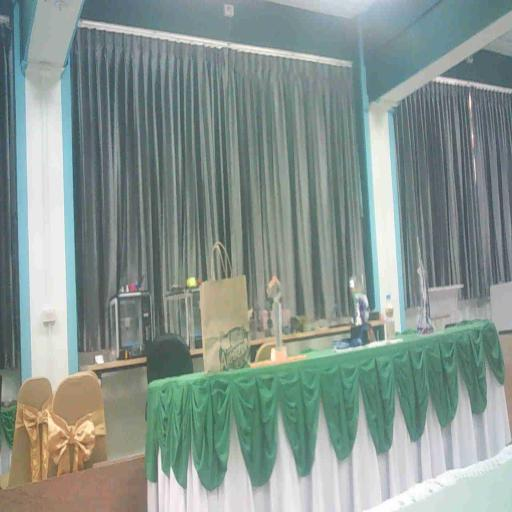bag: (198, 266, 254, 383)
